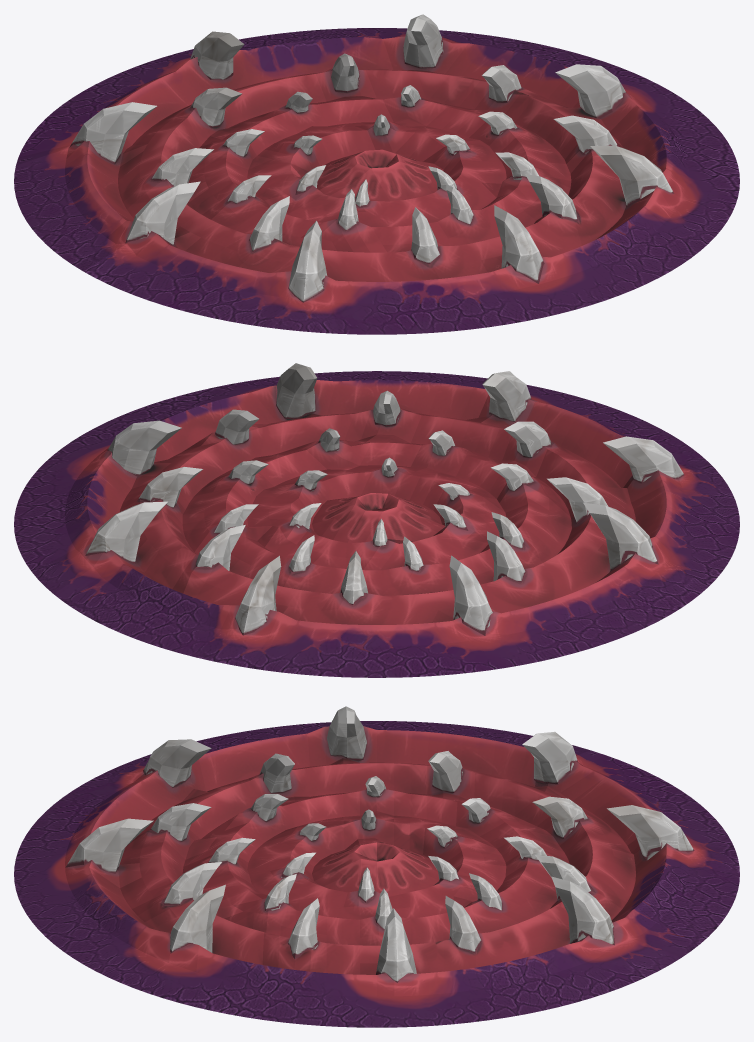
The model's file is TyranidMouth.fbx.
The picture shows the model from 3 angles, top to bottom: view 1: azimuth 30°, elevation 25°; view 2: azimuth 150°, elevation 25°; view 3: azimuth 270°, elevation 25°; orthographic projection.
Visible parts, largest first — view 1: Grid; view 2: Grid; view 3: Grid.
Boxes of the visible parts, left/top/right/bottom form: Grid: left=14, top=14, right=739, bottom=334; Grid: left=14, top=363, right=739, bottom=677; Grid: left=14, top=706, right=739, bottom=1027.
Size of the model in its own units: 772 by 71.17 by 772.
